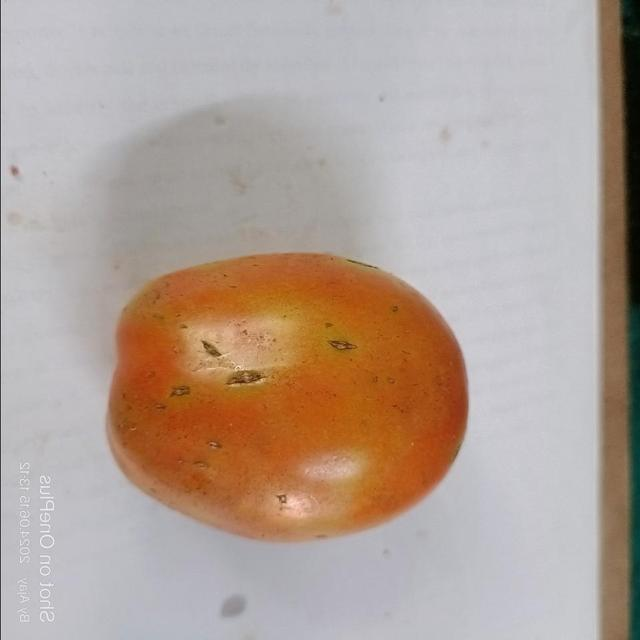Bacterial Spot Fruit: (15, 12, 228, 258)
